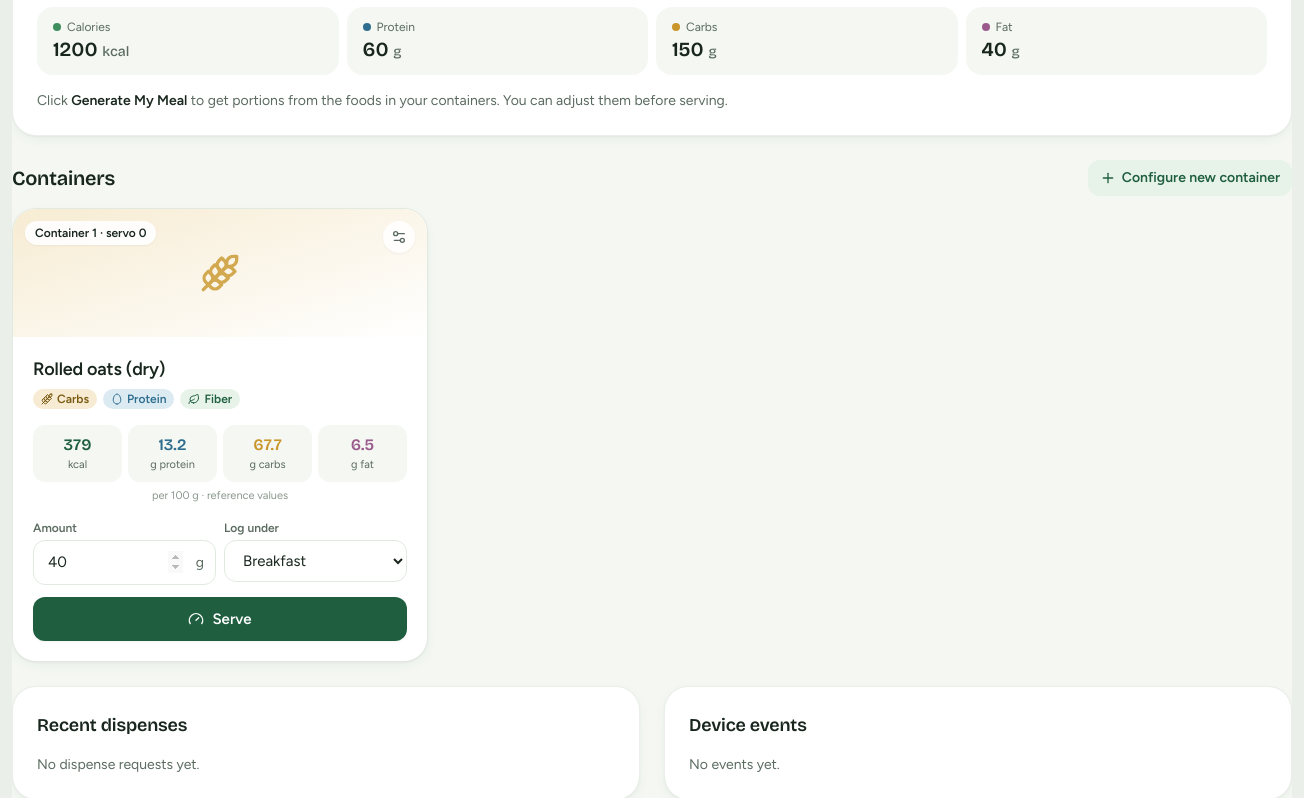
Test: Smart Dispenser page › reports an overshoot instead of hiding it
(page scrolled)
Replace the text in the number field named "Grams of Rolled oats (dry)" with "100" at (124, 563), box [33,540,216,585]
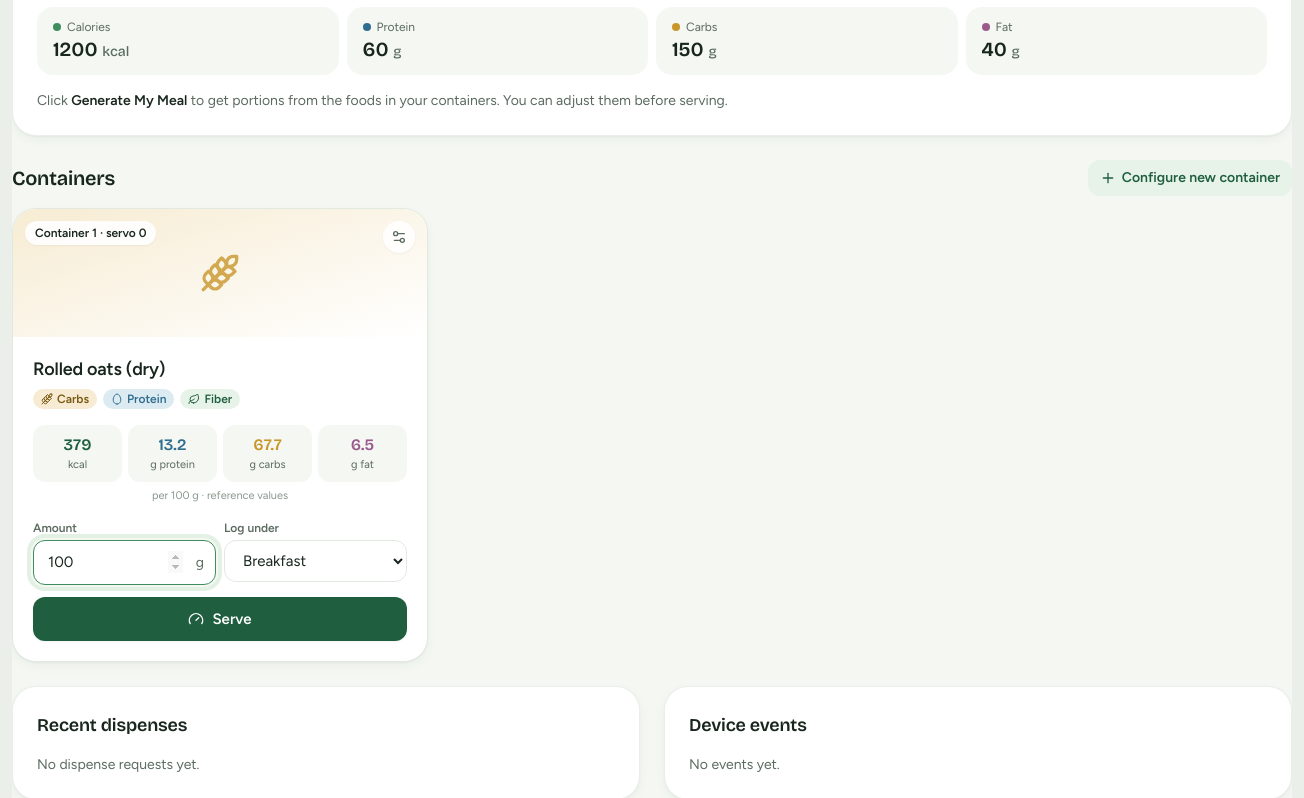
Click the button with aria-label "Serve Rolled oats (dry)" at (220, 619), box [33,597,407,641]
(page scrolled)
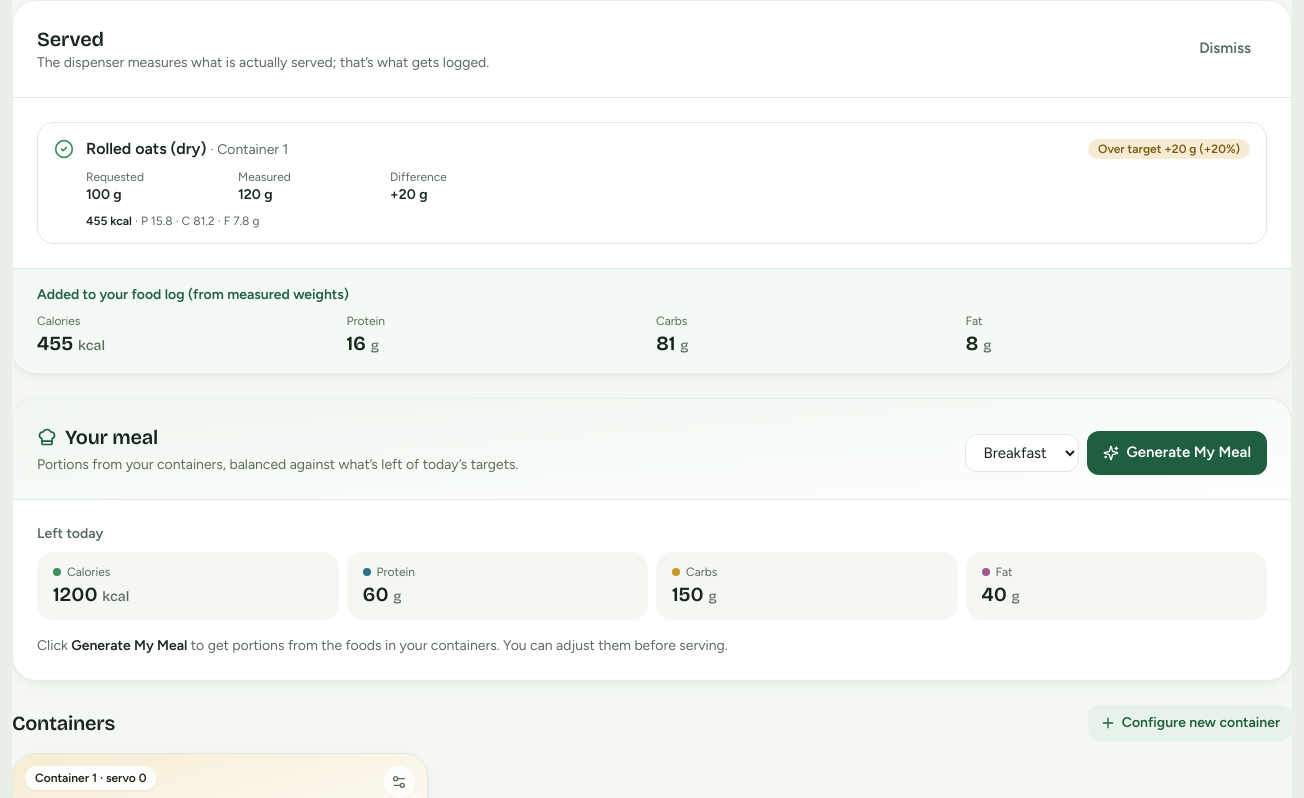
Now the text "Over target +20 g (+20%)" is shown, box [1088,138,1250,158]
